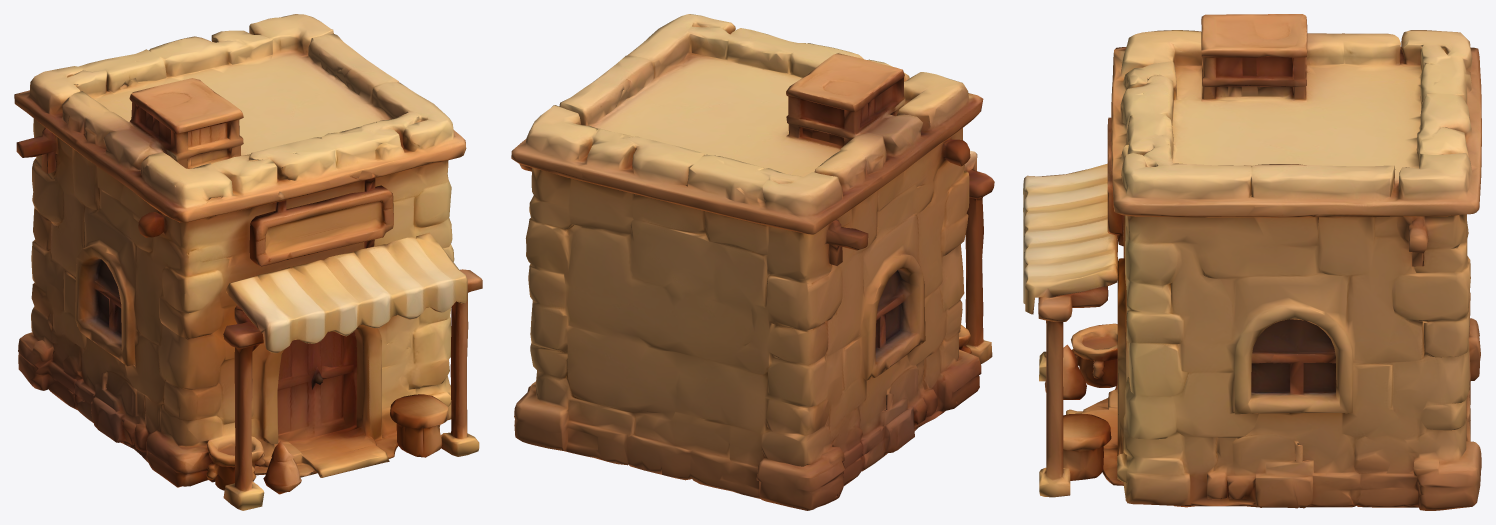
Rendered from customer-house.glb.
3 renders of one model, left to right at view 1: azimuth 30°, elevation 25°; view 2: azimuth 150°, elevation 25°; view 3: azimuth 270°, elevation 25°, orthographic. The views are drawn at different scales.
Parts seen in each view (by area): view 1: tripo_node_6f2525f9-dd0b-45d6-98bd-9431ca651edf; view 2: tripo_node_6f2525f9-dd0b-45d6-98bd-9431ca651edf; view 3: tripo_node_6f2525f9-dd0b-45d6-98bd-9431ca651edf.
Part boxes in pixels (left/top/right/bottom): tripo_node_6f2525f9-dd0b-45d6-98bd-9431ca651edf: left=14, top=14, right=482, bottom=510; tripo_node_6f2525f9-dd0b-45d6-98bd-9431ca651edf: left=511, top=14, right=994, bottom=510; tripo_node_6f2525f9-dd0b-45d6-98bd-9431ca651edf: left=1023, top=14, right=1481, bottom=510.
Bounding box in the file's own units: 0.9076 × 0.8702 × 1.
Materials: 1 (1 with a texture image).
